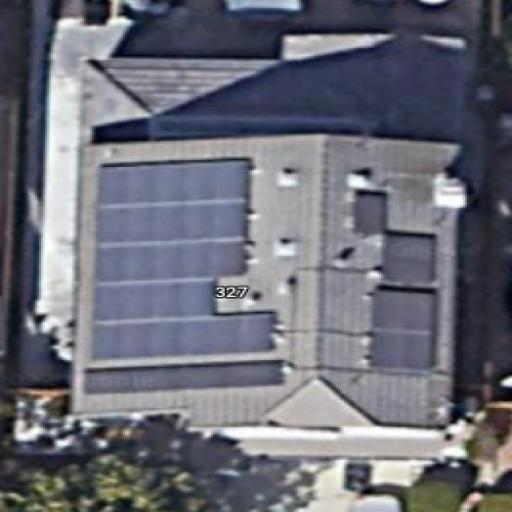Solar-Slope-Roof: (75, 137, 463, 433)
